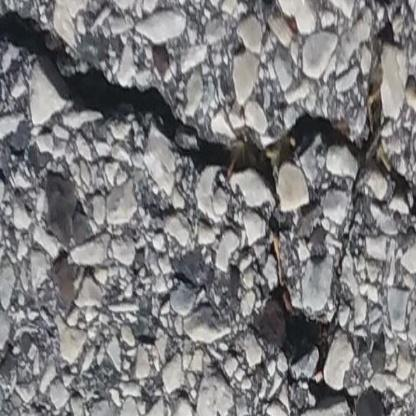Cracks: (0, 0, 416, 233), (255, 226, 363, 416)
